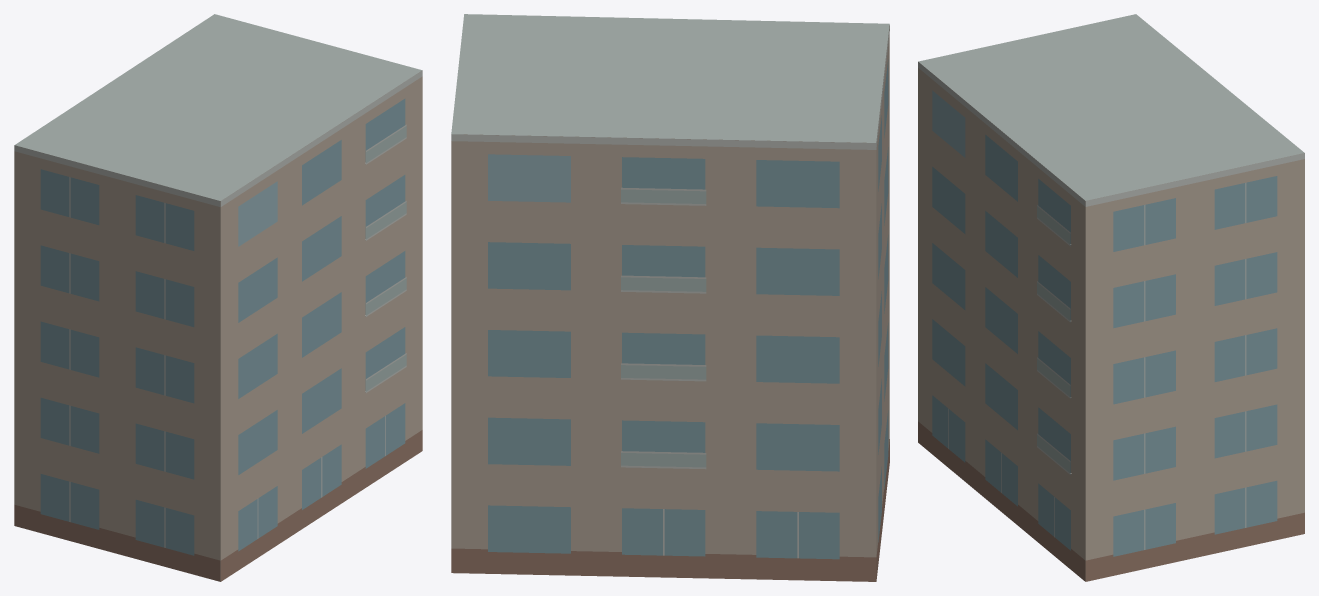
The model's file is survey-upis-33000347.glb.
The picture shows the model from 3 angles, left to right: view 1: azimuth 30°, elevation 25°; view 2: azimuth 150°, elevation 25°; view 3: azimuth 270°, elevation 25°; orthographic projection. The views are drawn at different scales.
Visible parts, largest first — view 1: survey-upis-33000347.tmp; view 2: survey-upis-33000347.tmp; view 3: survey-upis-33000347.tmp.
Part boxes in pixels (x1,y1,x2,y2): survey-upis-33000347.tmp: (14,14,422,581); survey-upis-33000347.tmp: (451,14,889,581); survey-upis-33000347.tmp: (918,14,1304,581).
Size of the model in its own units: 16.05 by 15.25 by 14.04.
